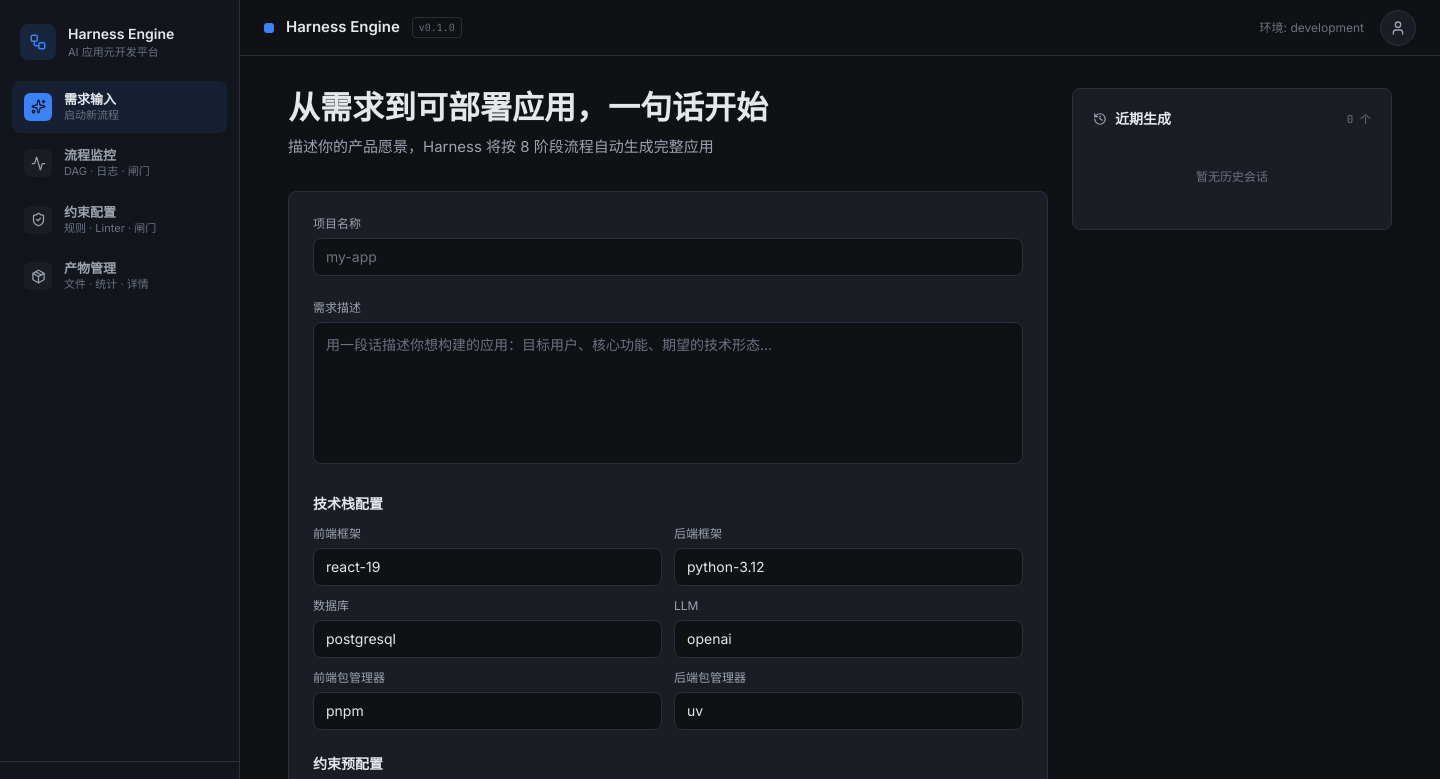
Test: App shell 导航 › switches pages via sidebar navigation
Click the text "流程监控" at x=90, y=155, box [64,147,116,163]
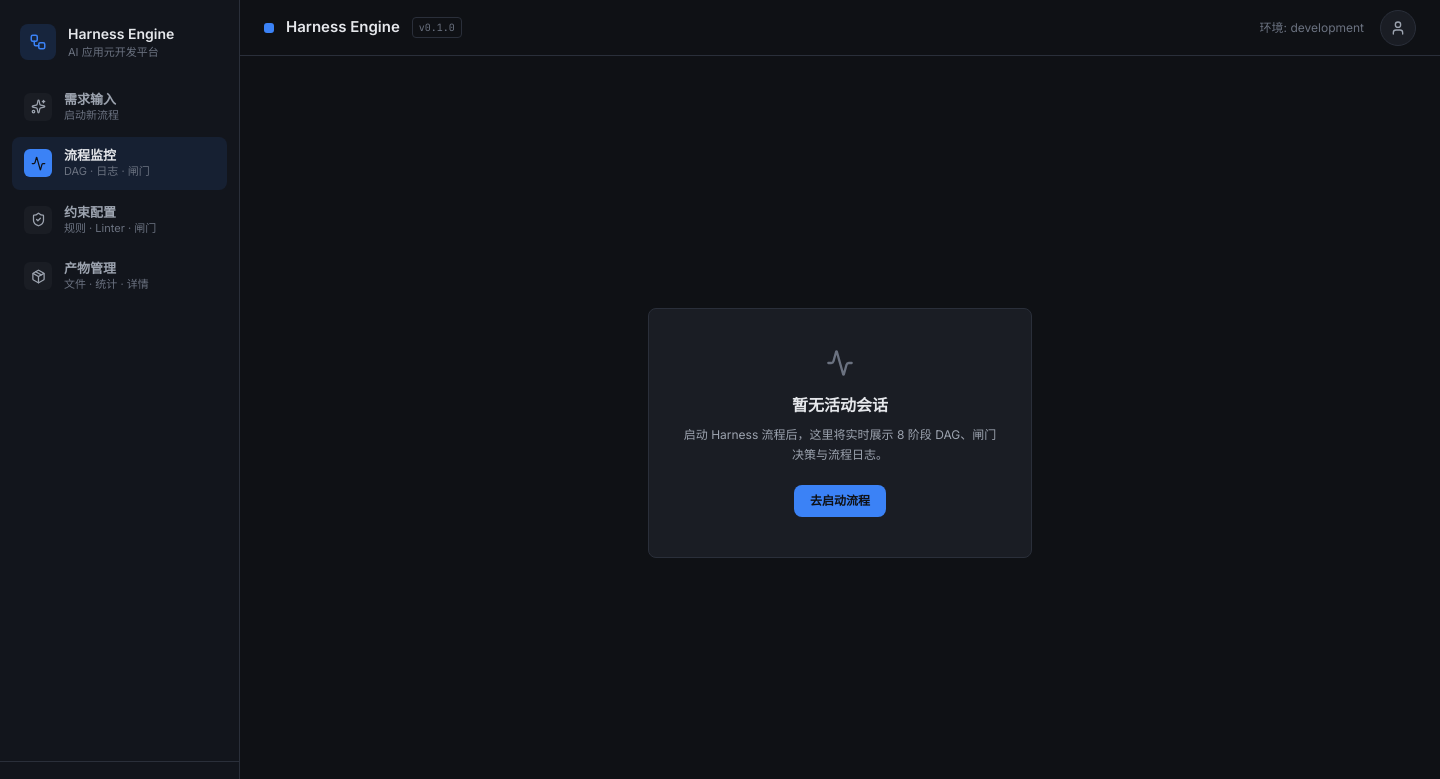
Result: the heading "暂无活动会话" is shown at [792,395,888,415]
Click the text "约束配置" at x=90, y=212, box [64,204,116,220]
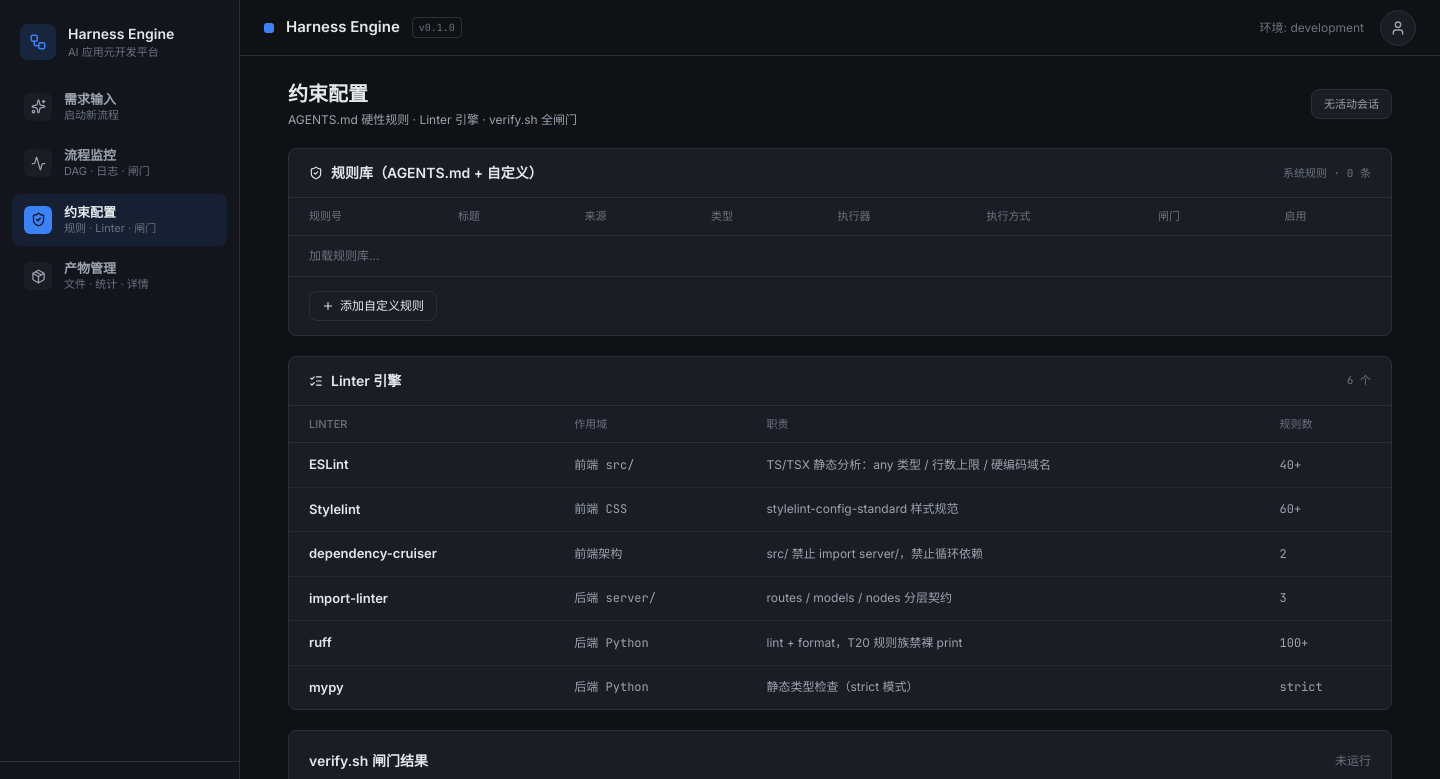
Result: the text "AGENTS.md 硬性规则 · Linter 引擎 · verify.sh 全闸门" is shown at [288,112,577,128]
Click the text "产物管理" at x=90, y=268, box [64,260,116,276]
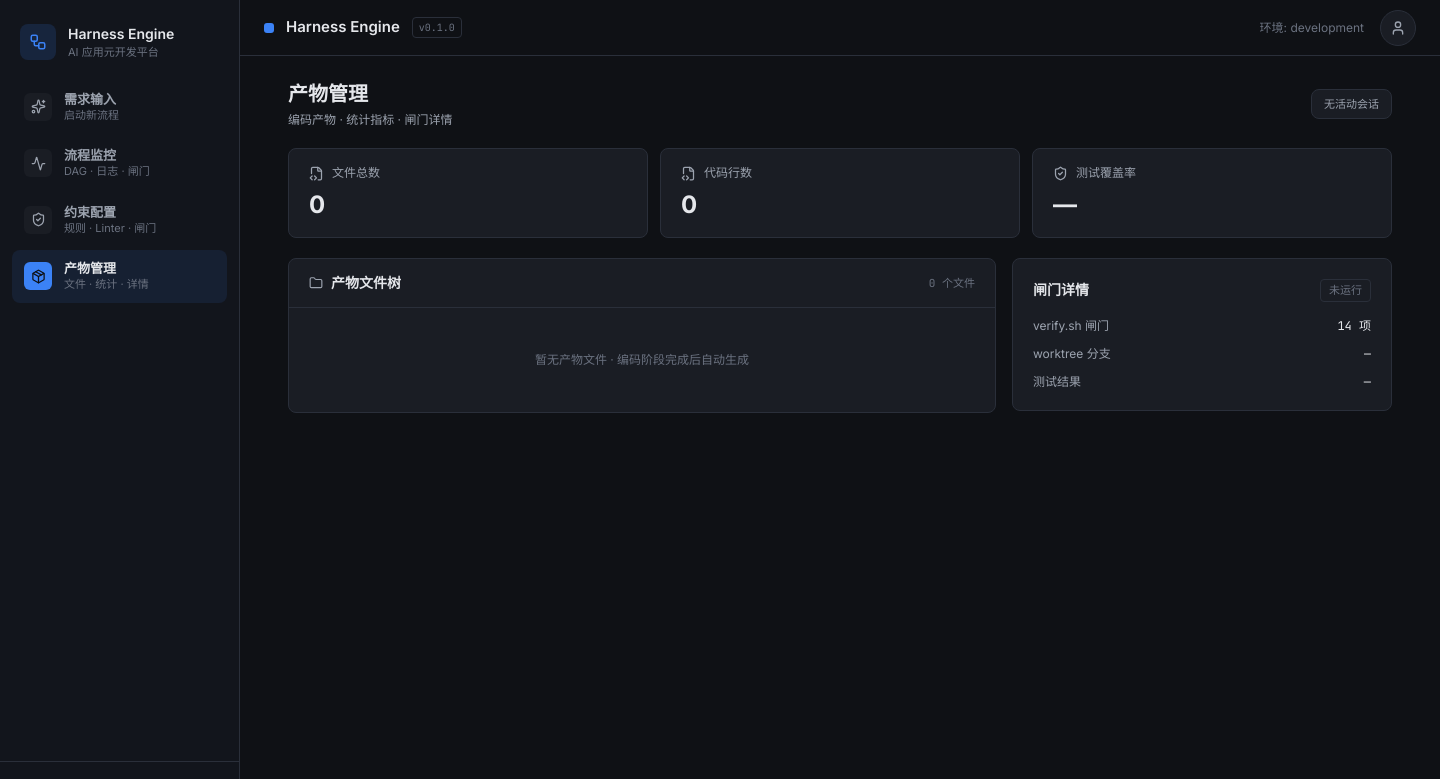
Result: the text "暂无产物文件 · 编码阶段完成后自动生成" is shown at [535,352,749,367]
